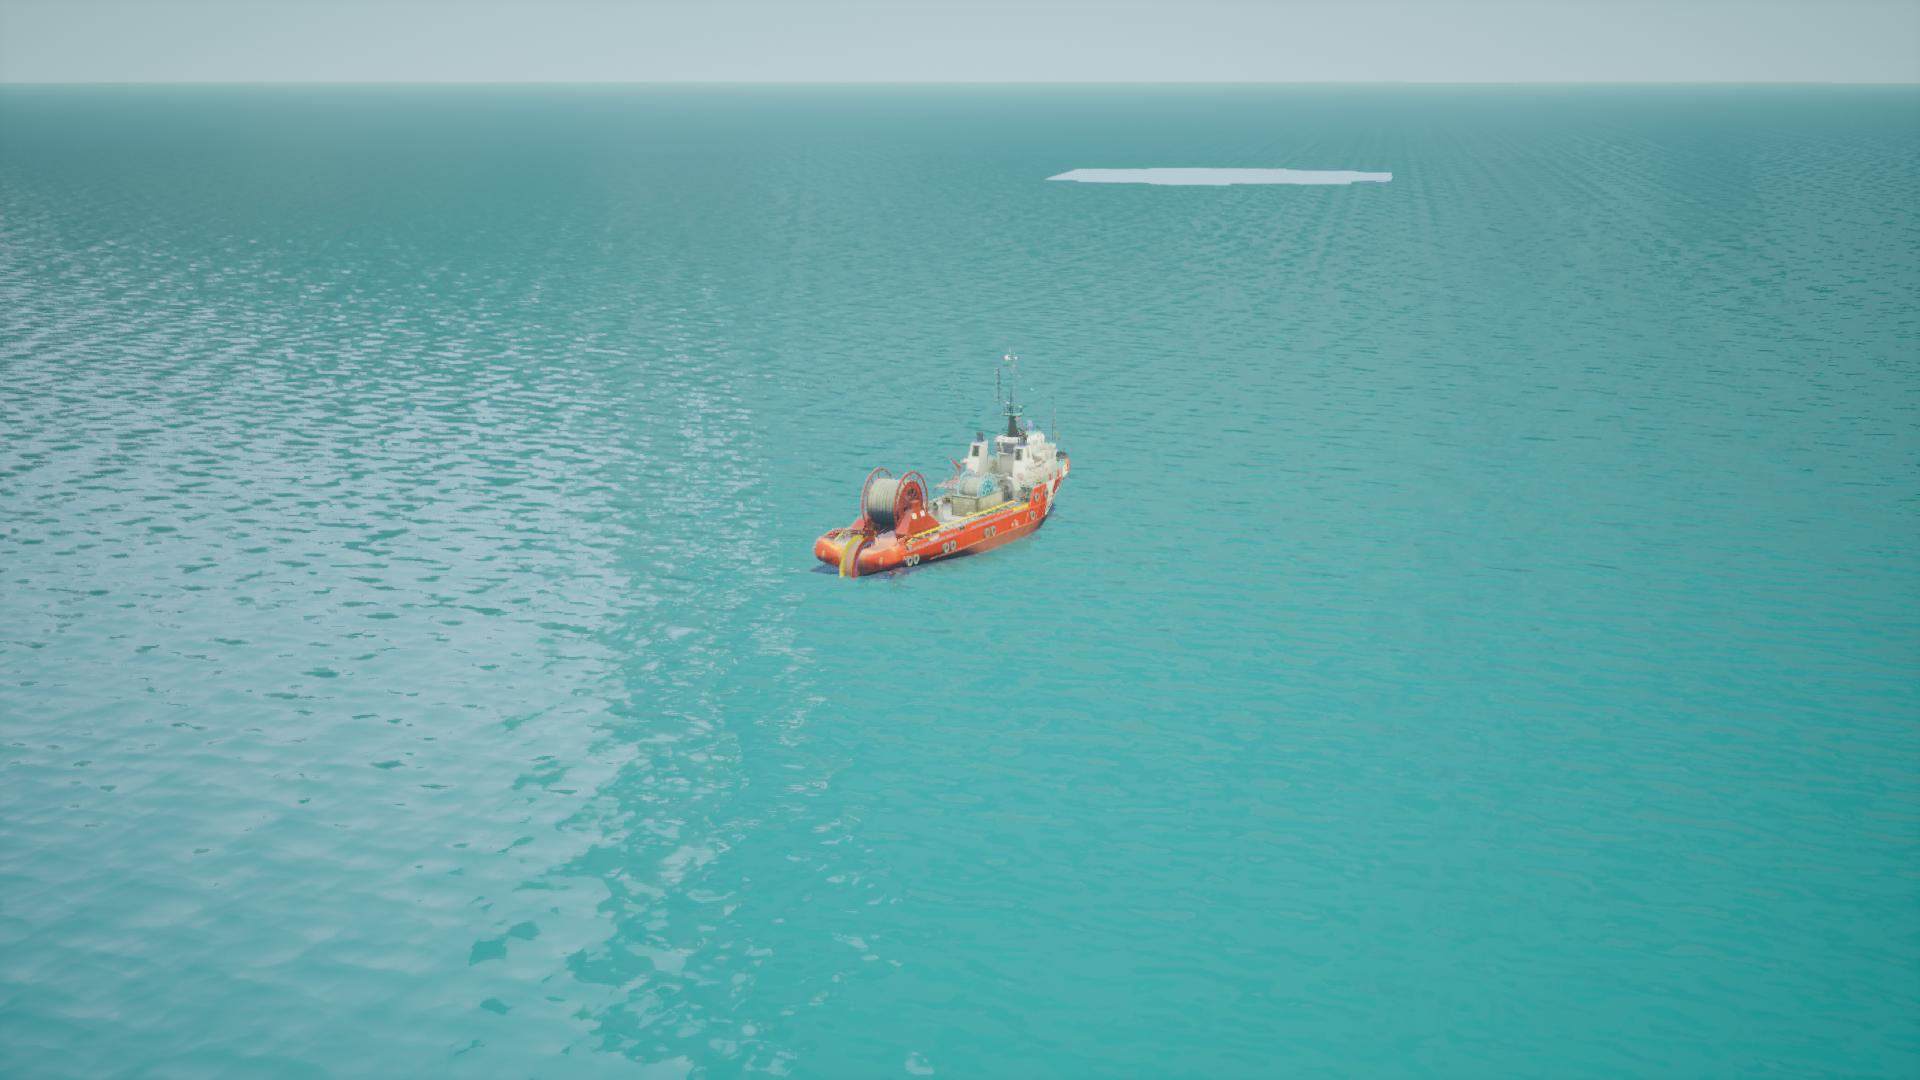Tug Boat: (819, 352, 1072, 585)
